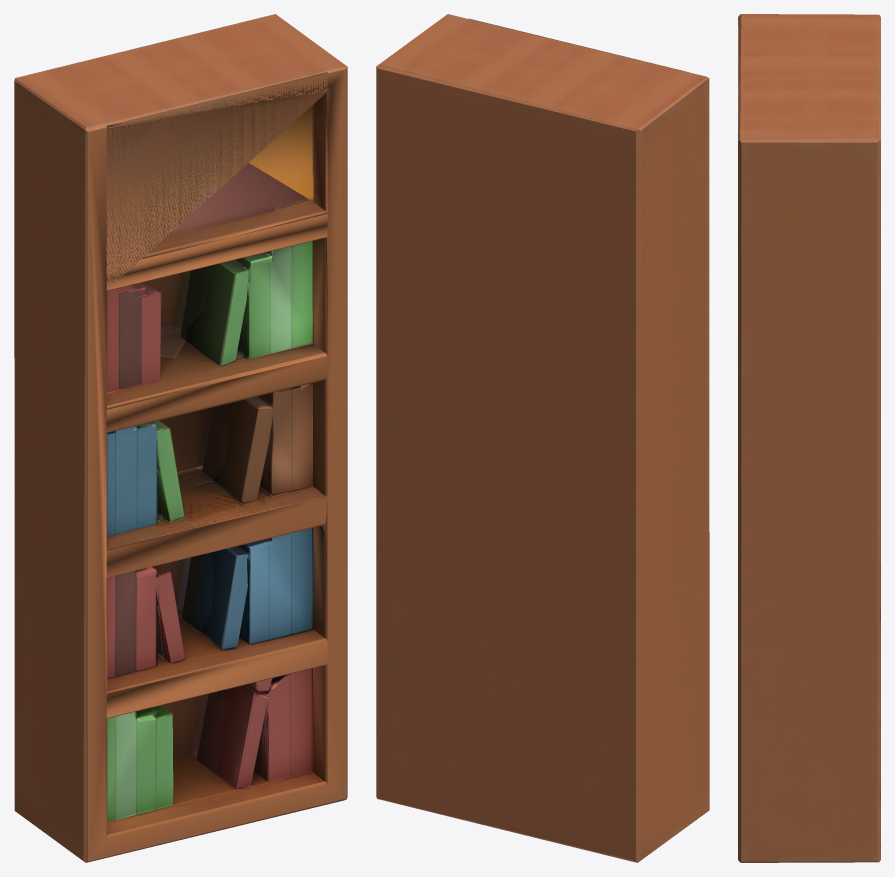
The model's file is bookshelfwithbooks.fbx.
3 renders of one model, left to right at view 1: azimuth 30°, elevation 25°; view 2: azimuth 150°, elevation 25°; view 3: azimuth 270°, elevation 25°, orthographic.
Parts seen in each view (by area): view 1: Mesh_0; view 2: Mesh_0; view 3: Mesh_0.
Boxes of the visible parts, x1,y1,x2,y2 form: Mesh_0: [14, 14, 347, 862]; Mesh_0: [376, 14, 709, 862]; Mesh_0: [738, 14, 880, 862].
Bounding box in the file's own units: 2.07 × 5.5 × 0.9825.
1 material, 1 textured.
